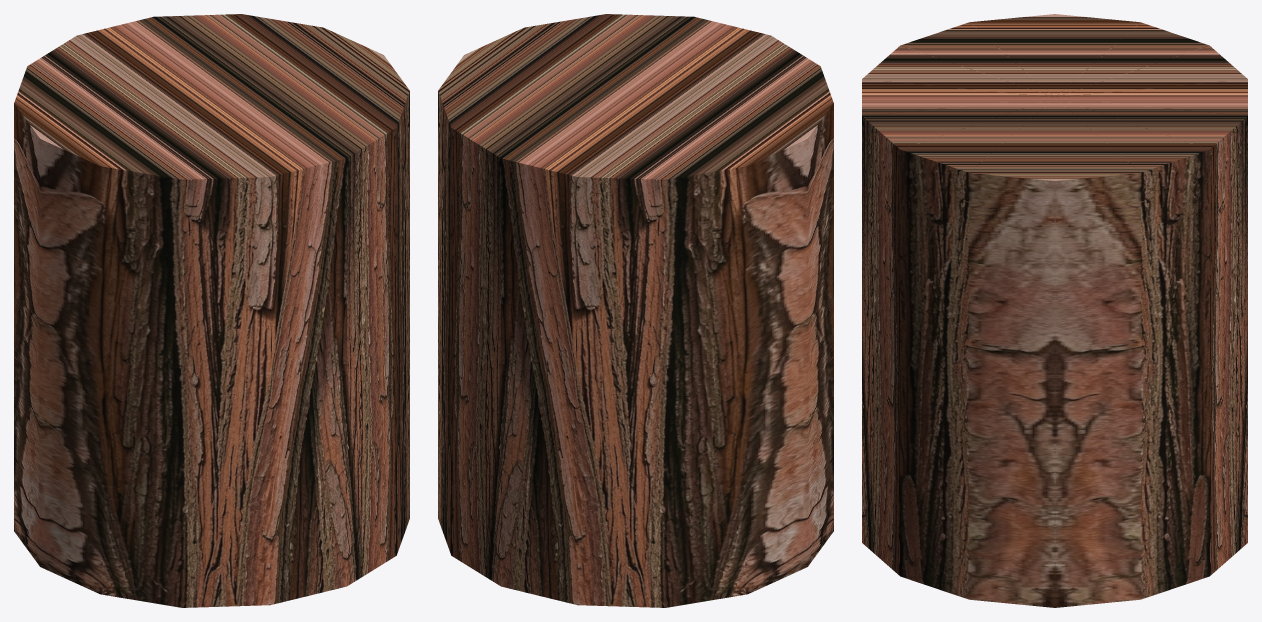
Rendered from redwoodlog_v.glb.
3 views of the same model, side by side, from view 1: azimuth 30°, elevation 25°; view 2: azimuth 150°, elevation 25°; view 3: azimuth 270°, elevation 25° (orthographic).
Visible parts, largest first — view 1: Birch_Log_H_Birch; view 2: Birch_Log_H_Birch; view 3: Birch_Log_H_Birch.
Part boxes in pixels (x1=…): Birch_Log_H_Birch: x1=14, y1=14, x2=409, y2=607; Birch_Log_H_Birch: x1=438, y1=14, x2=833, y2=607; Birch_Log_H_Birch: x1=862, y1=14, x2=1247, y2=607.
Bounding box in the file's own units: 0.84 × 1 × 0.8189.
1 material, 1 textured.
